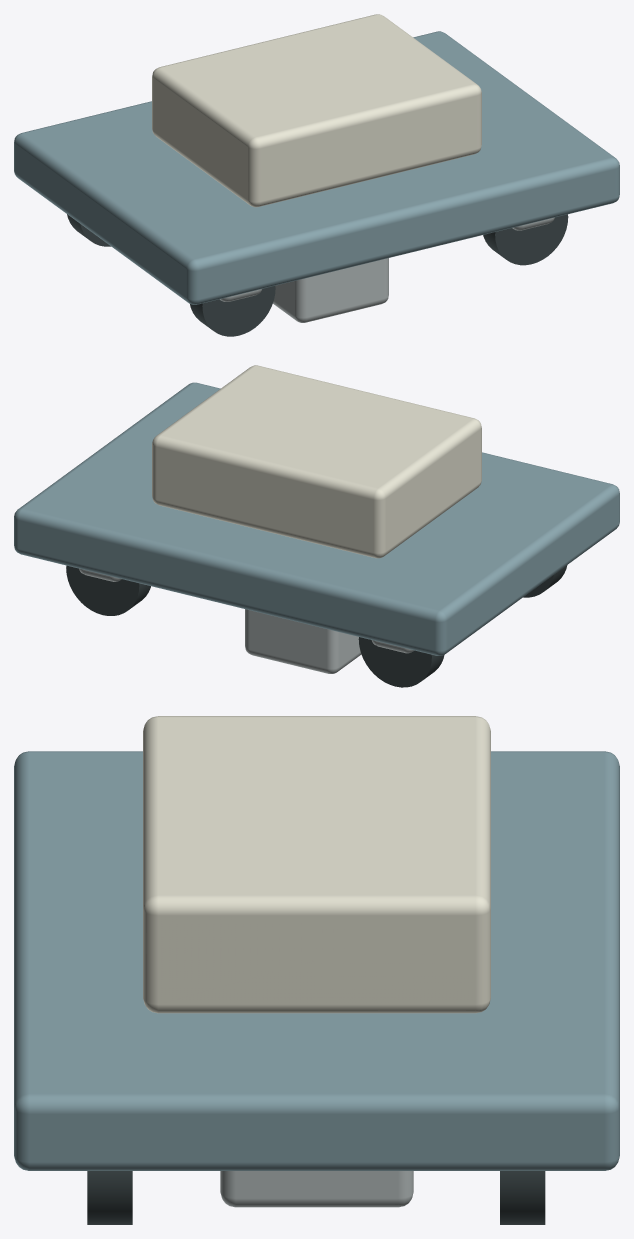
File: abandoned-tidal-model-testing-hall-transverse-instrume-72be5adc__32349.glb
The picture shows the model from 3 angles, top to bottom: view 1: azimuth 30°, elevation 25°; view 2: azimuth 150°, elevation 25°; view 3: azimuth 270°, elevation 25°; orthographic projection. The views are drawn at different scales.
Parts seen in each view (by area): view 1: transverse-instrument-carriage; view 2: transverse-instrument-carriage; view 3: transverse-instrument-carriage.
Boxes of the visible parts, x1,y1,x2,y2 form: transverse-instrument-carriage: (14,14,619,336); transverse-instrument-carriage: (14,365,619,687); transverse-instrument-carriage: (14,716,619,1224).
Bounding box in the file's own units: 0.65 × 0.315 × 0.47.
